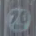Speed limit: (3, 3, 35, 34)
